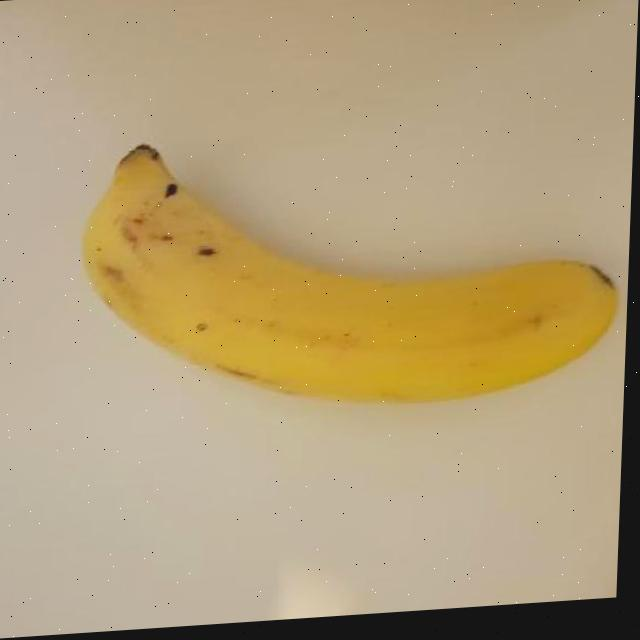banana: (67, 109, 631, 431)
